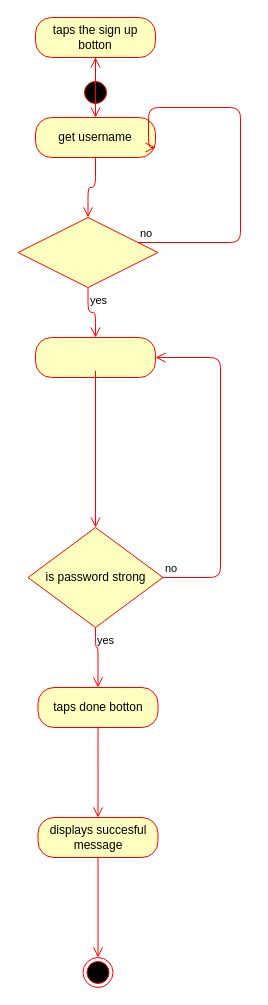
Image size: 268x1005. Some labels were removed from this diagram. Each missing label, with the centre of its shape:
"get password" belongs at pixel 95 357.
"is username unique" belongs at pixel 87 252.
